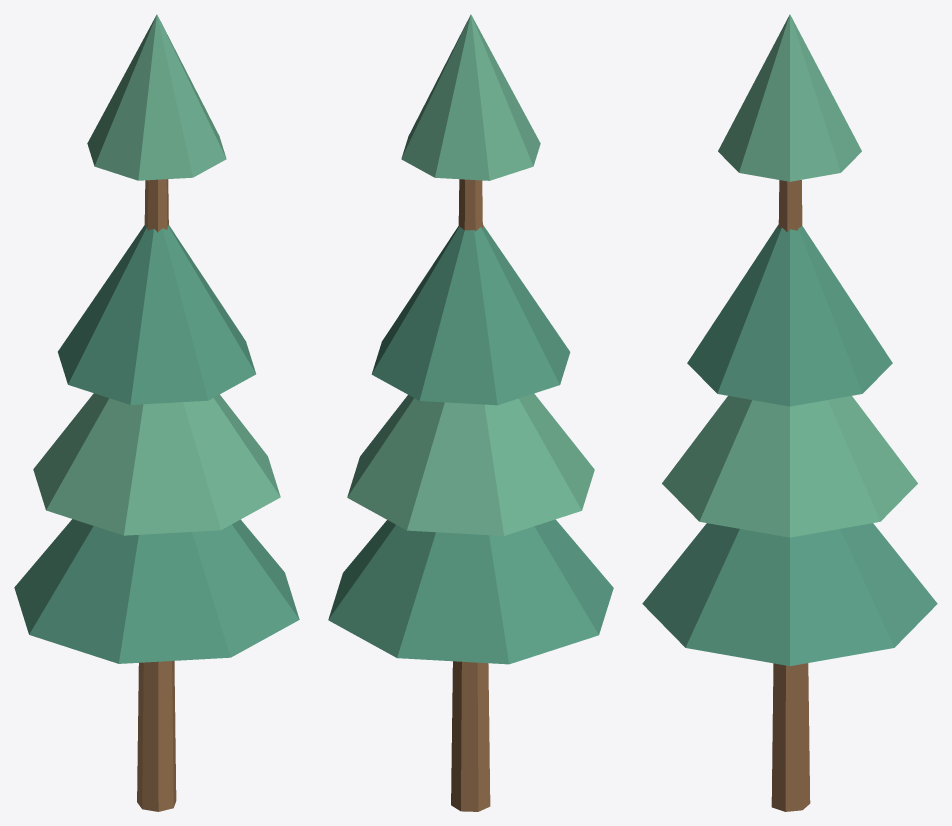
File: conifer_04.glb
The picture shows the model from 3 angles, left to right: view 1: azimuth 30°, elevation 25°; view 2: azimuth 150°, elevation 25°; view 3: azimuth 270°, elevation 25°; orthographic projection.
Visible parts, largest first — view 1: conifer_04; view 2: conifer_04; view 3: conifer_04.
Boxes of the visible parts, x1,y1,x2,y2 form: conifer_04: (14, 14, 299, 811); conifer_04: (328, 14, 613, 811); conifer_04: (642, 14, 937, 811).
Size of the model in its own units: 2.05 by 6.04 by 2.05.
